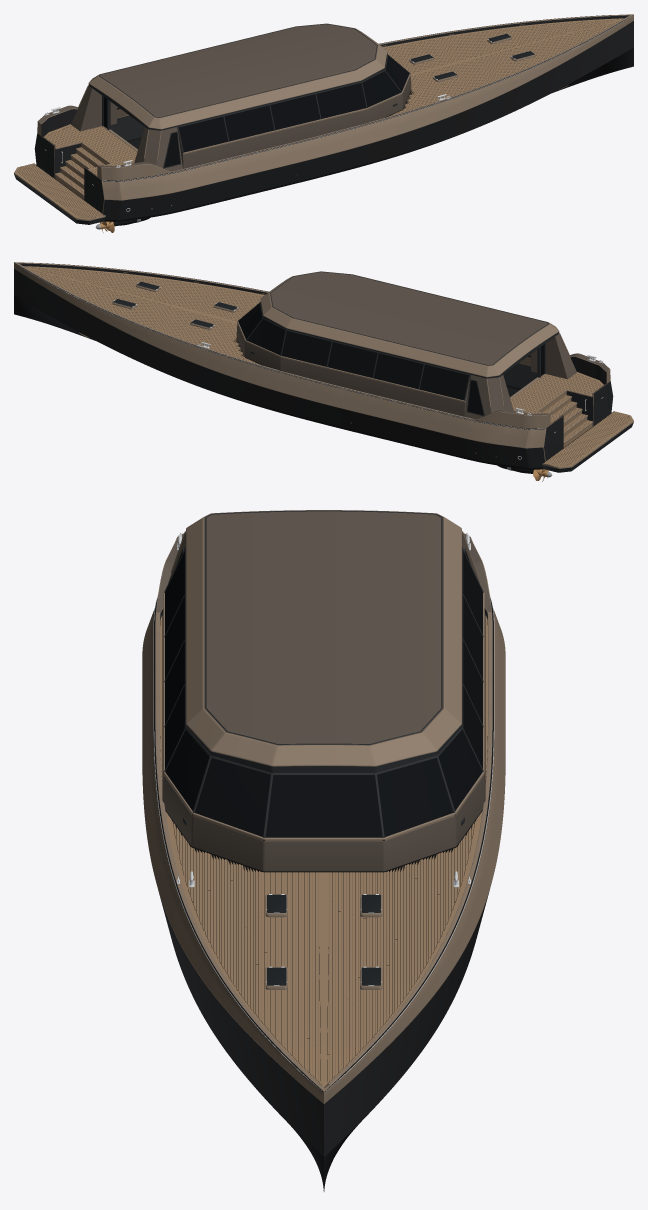
The model's file is diedre29-exterior.glb.
3 renders of one model, top to bottom at view 1: azimuth 30°, elevation 25°; view 2: azimuth 150°, elevation 25°; view 3: azimuth 270°, elevation 25°, orthographic. The views are drawn at different scales.
Parts seen in each view (by area): view 1: hull_shell, roof__superstructure__roofTop, hull_deckBoards, upperGlass__glass__canopyGlazing, roof__accent__roofBevel, superstructure__superstructure__deckhouseWall, superstructure__superstructure__aftCheeks, hull_bulwarks, hull_platformBoards, hull_deckCaulk, hull_rubRail, hull_platform (+12 smaller); view 2: hull_shell, roof__superstructure__roofTop, hull_deckBoards, upperGlass__glass__canopyGlazing, roof__accent__roofBevel, superstructure__superstructure__deckhouseWall, superstructure__superstructure__aftCheeks, hull_bulwarks, hull_platformBoards, hull_deckCaulk, hull_rubRail, hull_platform (+12 smaller); view 3: roof__superstructure__roofTop, hull_deckBoards, hull_shell, upperGlass__glass__canopyGlazing, roof__accent__roofBevel, superstructure__superstructure__deckhouseWall, hull_deckCaulk, superstructure__accent__sill, hull_rubRail, roof__metalDark__roofFascia, upperGlass__metalDark__headRail, upperGlass__metalDark__mullions (+4 smaller).
Part boxes in pixels (x1=…): hull_shell: x1=34, y1=14, x2=633, y2=221; roof__superstructure__roofTop: x1=98, y1=23, x2=378, y2=117; hull_deckBoards: x1=44, y1=18, x2=624, y2=175; upperGlass__glass__canopyGlazing: x1=179, y1=56, x2=409, y2=152; roof__accent__roofBevel: x1=88, y1=23, x2=387, y2=129; superstructure__superstructure__deckhouseWall: x1=117, y1=76, x2=411, y2=168; superstructure__superstructure__aftCheeks: x1=71, y1=85, x2=182, y2=170; hull_bulwarks: x1=37, y1=105, x2=174, y2=180; hull_platformBoards: x1=14, y1=163, x2=104, y2=219; hull_deckCaulk: x1=48, y1=20, x2=616, y2=172; hull_rubRail: x1=103, y1=15, x2=632, y2=181; hull_platform: x1=14, y1=163, x2=105, y2=224; hull_shell: x1=14, y1=262, x2=613, y2=469; roof__superstructure__roofTop: x1=269, y1=271, x2=549, y2=365; hull_deckBoards: x1=23, y1=266, x2=603, y2=423; upperGlass__glass__canopyGlazing: x1=238, y1=303, x2=468, y2=400; roof__accent__roofBevel: x1=260, y1=271, x2=559, y2=377; superstructure__superstructure__deckhouseWall: x1=236, y1=324, x2=530, y2=416; superstructure__superstructure__aftCheeks: x1=465, y1=334, x2=576, y2=418; hull_bulwarks: x1=473, y1=353, x2=610, y2=428; hull_platformBoards: x1=543, y1=411, x2=633, y2=467; hull_deckCaulk: x1=36, y1=268, x2=600, y2=421; hull_rubRail: x1=15, y1=262, x2=545, y2=429; hull_platform: x1=542, y1=411, x2=633, y2=472; roof__superstructure__roofTop: x1=204, y1=510, x2=443, y2=745; hull_deckBoards: x1=160, y1=616, x2=487, y2=1086; hull_shell: x1=142, y1=609, x2=505, y2=1191; upperGlass__glass__canopyGlazing: x1=165, y1=552, x2=482, y2=837; roof__accent__roofBevel: x1=186, y1=510, x2=461, y2=766; superstructure__superstructure__deckhouseWall: x1=162, y1=613, x2=485, y2=871; hull_deckCaulk: x1=165, y1=810, x2=482, y2=1082; superstructure__accent__sill: x1=163, y1=592, x2=484, y2=841; hull_rubRail: x1=154, y1=598, x2=493, y2=1091; roof__metalDark__roofFascia: x1=186, y1=724, x2=461, y2=772; upperGlass__metalDark__headRail: x1=184, y1=547, x2=463, y2=775; upperGlass__metalDark__mullions: x1=164, y1=547, x2=483, y2=840.
Size of the model in its own units: 28.8 by 5.43 by 7.7.
